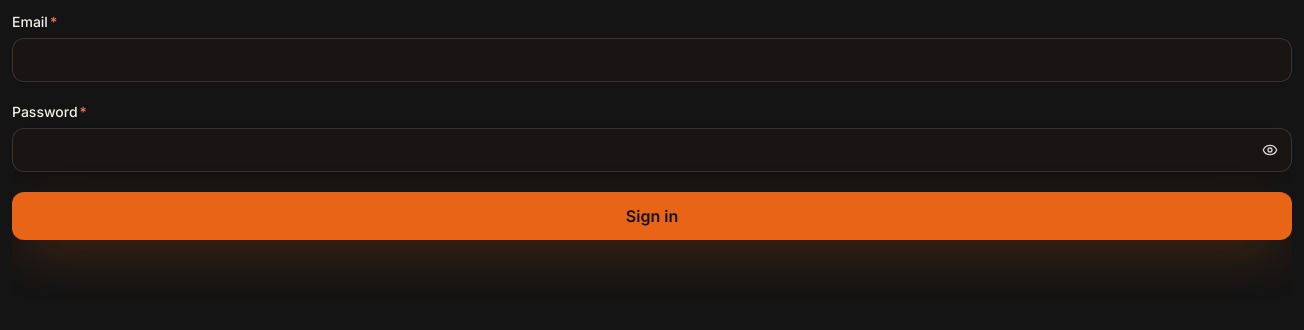
AdminLoginForm › validates accessibly before contacting the server
Type "not-an-email" into the field labelled "Email*" at {"x": 652, "y": 60}, box [12,38,1292,82]
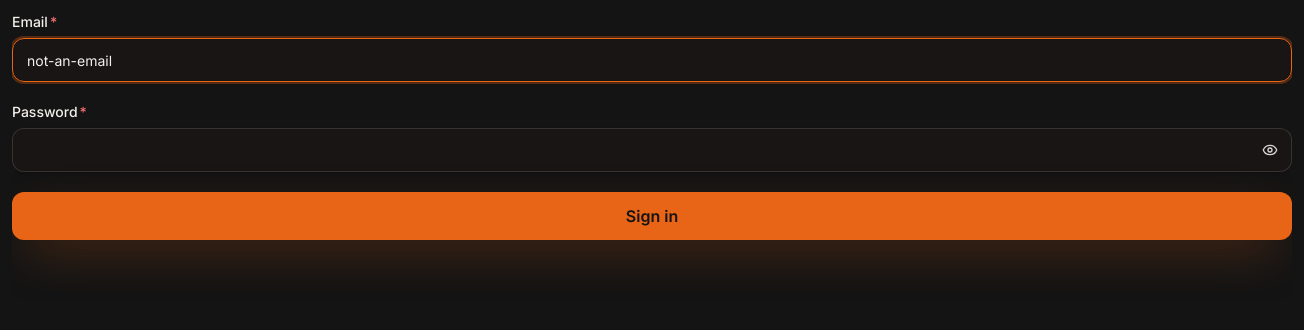
Click the button "Sign in" at {"x": 652, "y": 216}, box [12,192,1292,240]
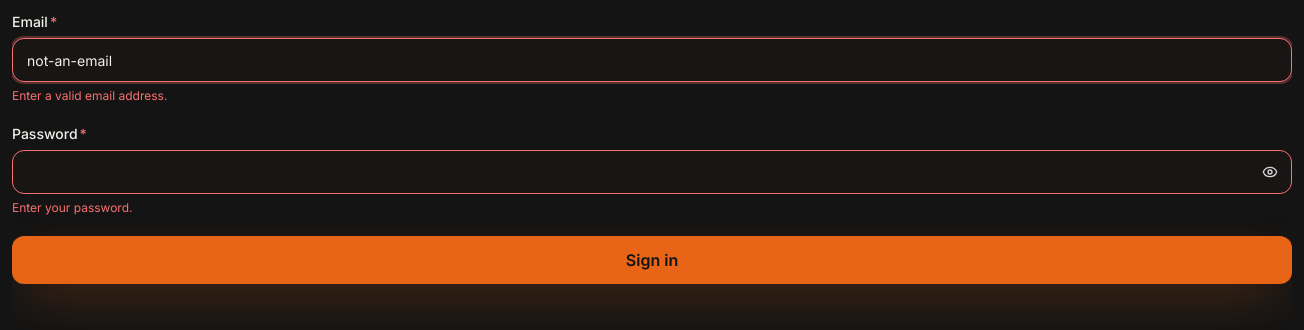
Expected: the text "Enter your password." is shown, [12,200,132,215]
